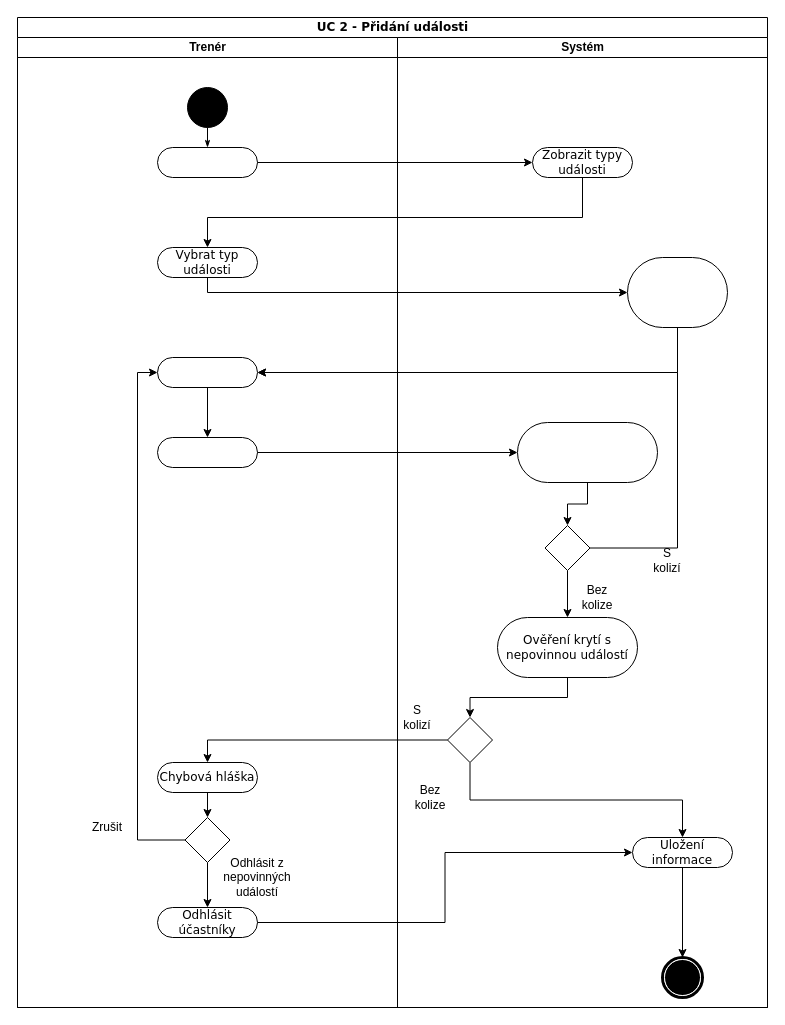
Some shapes in this 785 by 1025 pixel diagram are drawn without their labels. Here are the shapes that lost their labels. From the top down, the box of each, then its label:
(156, 146, 258, 178): Přidat novou událost
(626, 256, 728, 328): Zobrazit formulář pro daný typ události
(156, 356, 258, 388): Vyplnit informace
(156, 436, 258, 468): Uložit
(516, 422, 658, 482): Ověření krytí s povinnou událostí
